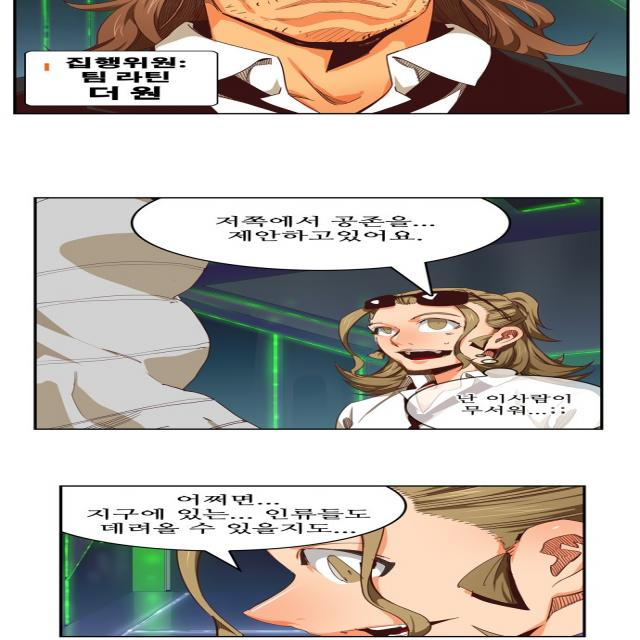Bubble: (130, 196, 510, 272), (59, 483, 404, 551), (404, 375, 604, 430), (27, 51, 216, 106)
